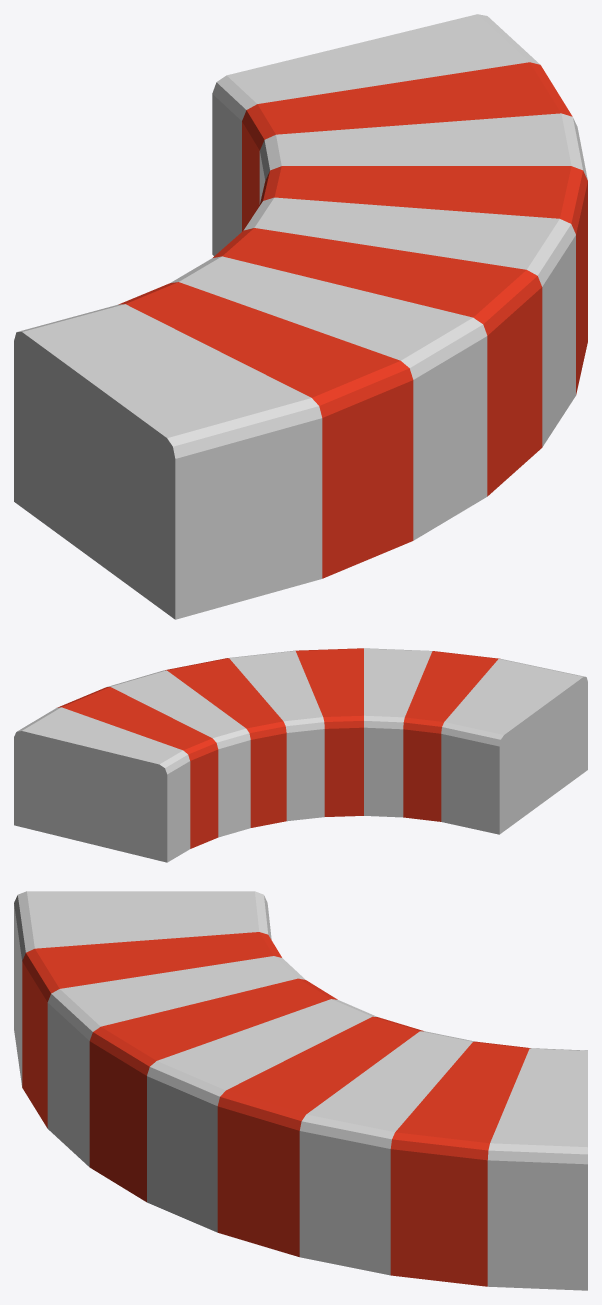
File: TurnLeftRoad.fbx
3 views of the same model, one above another, from view 1: azimuth 30°, elevation 25°; view 2: azimuth 150°, elevation 25°; view 3: azimuth 270°, elevation 25° (orthographic). The views are drawn at different scales.
Parts seen in each view (by area): view 1: TurnLeftRoad; view 2: TurnLeftRoad; view 3: TurnLeftRoad.
Part boxes in pixels (x1,y1,x2,y2): TurnLeftRoad: [14, 14, 587, 619]; TurnLeftRoad: [14, 648, 587, 862]; TurnLeftRoad: [14, 891, 587, 1290].
Size of the model in its own units: 577 by 142 by 536.
